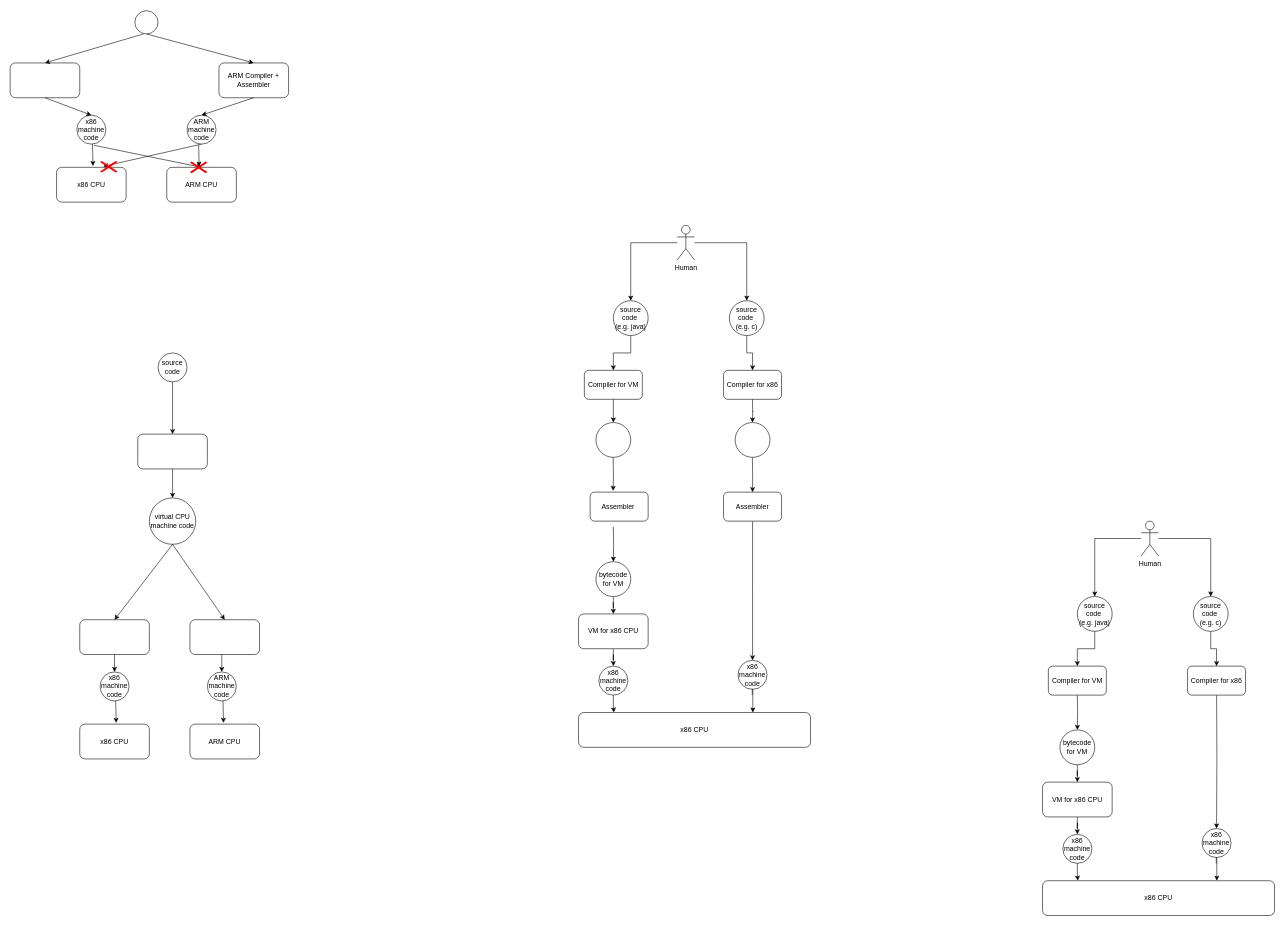
Some shapes in this 1285 by 926 pixel diagram are drawn without their labels. Here are the shapes that lost their labels. From the top down, the centre of each, then its label:
At point (146, 22): ".c source code".
At point (45, 80): "x86 Compiler + Assembler".
At point (172, 451): "Virtual CPU Compiler".
At point (613, 439): "assembly code for VM".
At point (752, 439): "assembly code for x86".
At point (114, 637): "Virtual CPU for x86".
At point (224, 637): "Virtual CPU for ARM".
